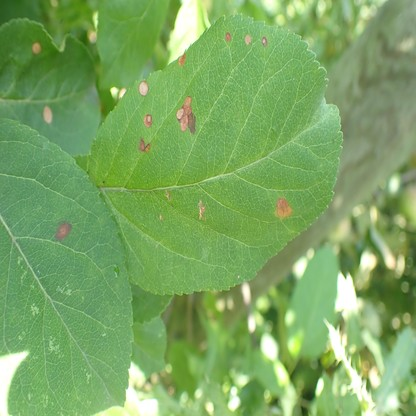frogeye_leaf_spot: (176, 95, 197, 135), (276, 196, 292, 219), (56, 222, 72, 240), (43, 107, 52, 125), (32, 40, 42, 56), (139, 81, 149, 96), (198, 199, 205, 220), (139, 138, 150, 151), (143, 113, 152, 127), (178, 52, 187, 65), (245, 33, 251, 45), (225, 32, 231, 41), (261, 37, 267, 45)
